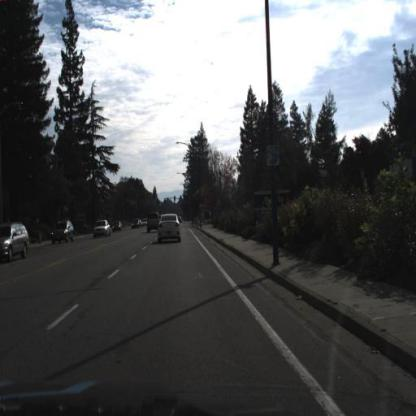car: (2, 223, 31, 265), (159, 213, 183, 243), (50, 218, 74, 242), (92, 218, 110, 240), (147, 211, 161, 234), (113, 220, 125, 234)
